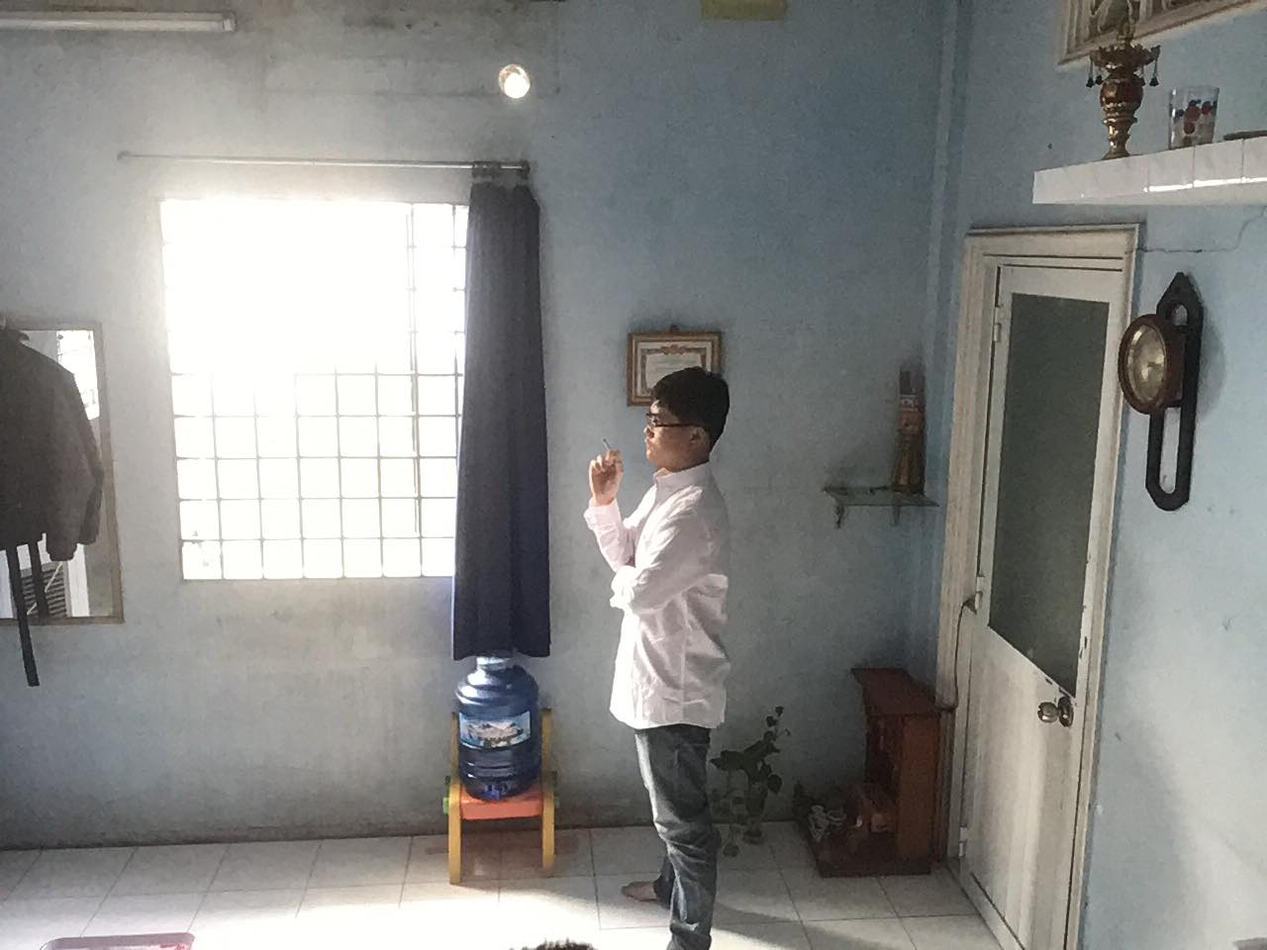cigarette: (600, 432, 624, 457)
person: (562, 365, 796, 950)
